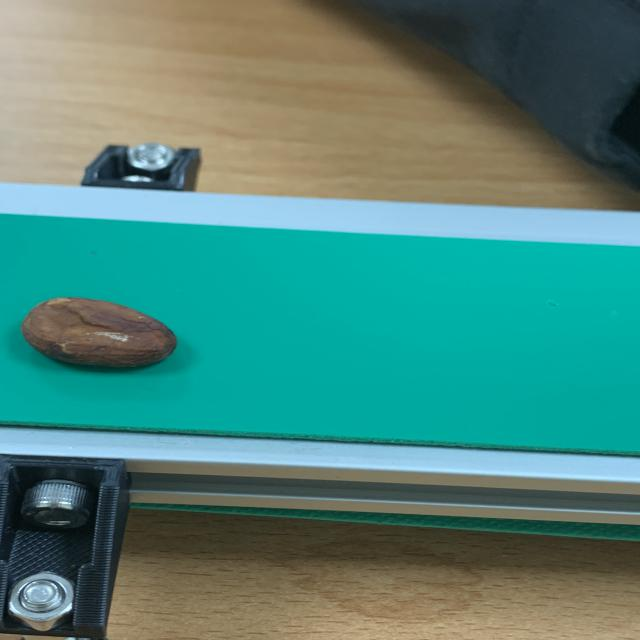Fine_cocoabeans: (0, 265, 285, 426)
